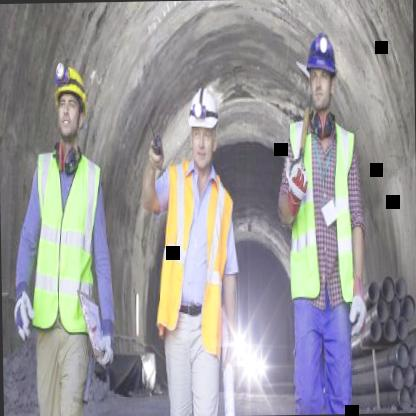helmet: (302, 26, 340, 118), (185, 82, 221, 171), (51, 62, 90, 141)
